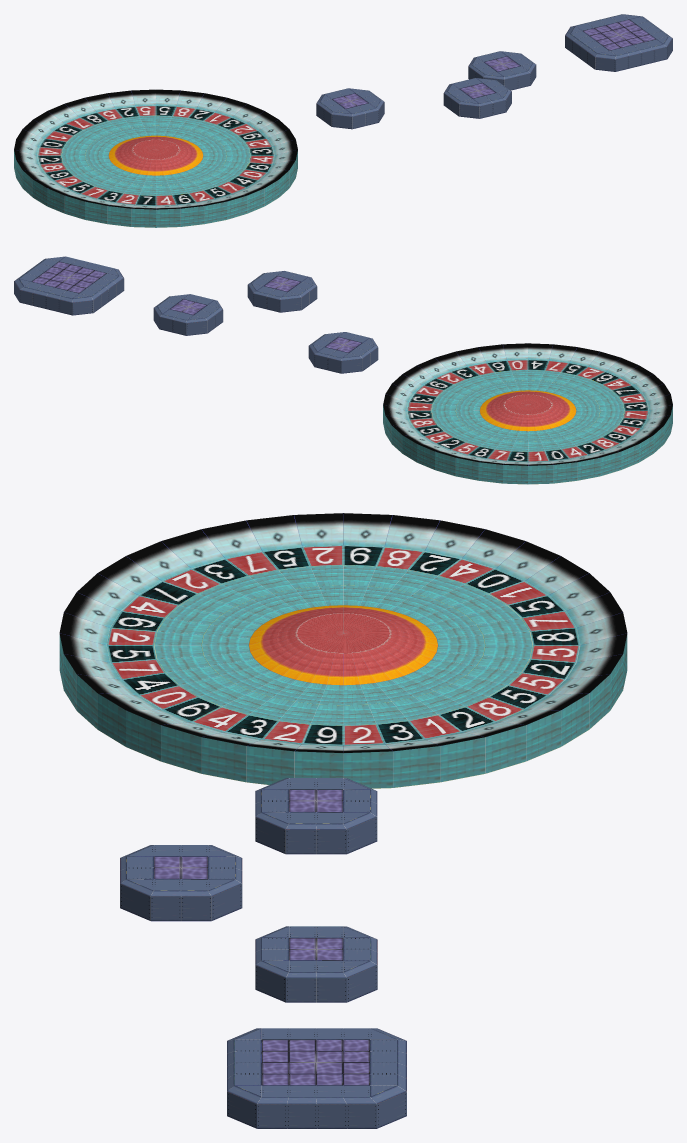
The model's file is test-zone2.glb.
3 renders of one model, top to bottom at view 1: azimuth 30°, elevation 25°; view 2: azimuth 150°, elevation 25°; view 3: azimuth 270°, elevation 25°, orthographic. The views are drawn at different scales.
Parts seen in each view (by area): view 1: Frame_0.013; view 2: Frame_0.013; view 3: Frame_0.013.
Part boxes in pixels (left/top/right/bottom): Frame_0.013: left=14, top=14, right=672, bottom=227; Frame_0.013: left=14, top=256, right=672, bottom=484; Frame_0.013: left=59, top=513, right=627, bottom=1128.
Size of the model in its own units: 264 by 15.65 by 105.
1 material, 1 textured.
